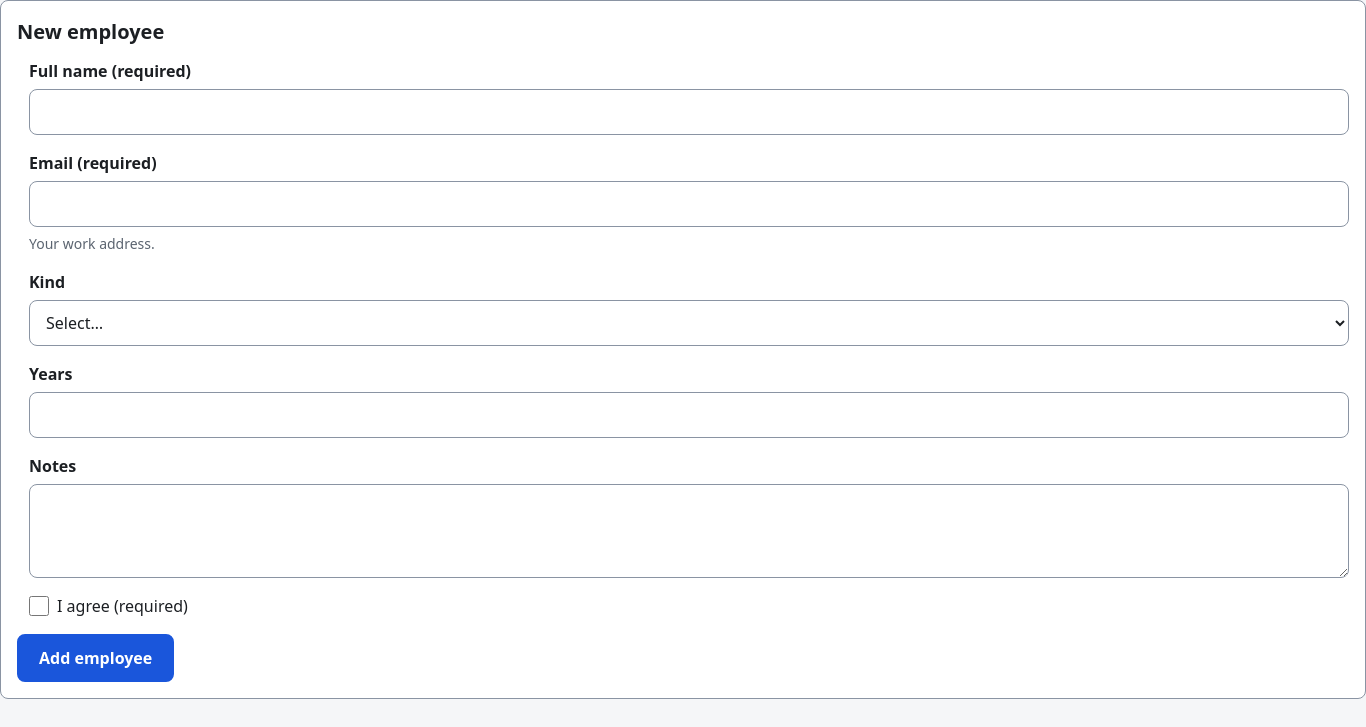
Test: Form: fields that depend on another field › hides the field again when the other field changes back
Select "Contractor" in the dropdown labelled "Kind" at [689, 323], box [29, 300, 1349, 346]
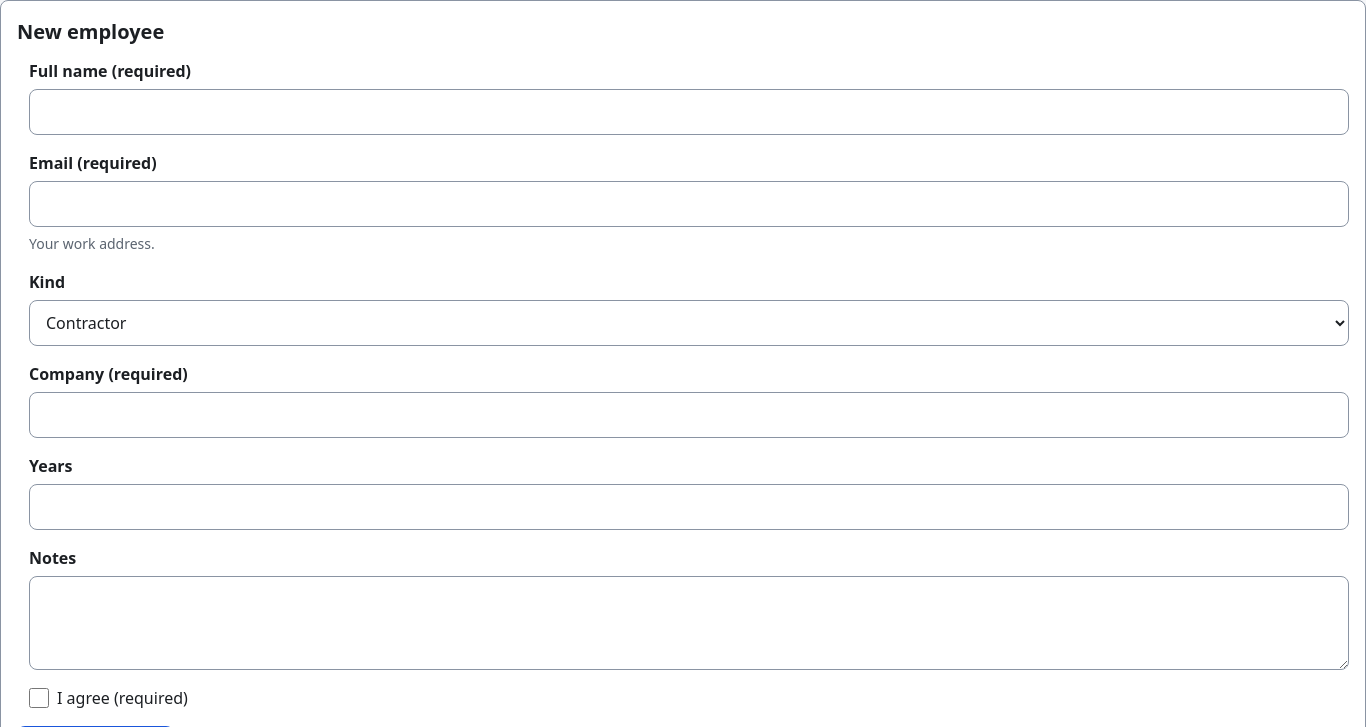
Select "Full-time" in the dropdown labelled "Kind" at [689, 323], box [29, 300, 1349, 346]
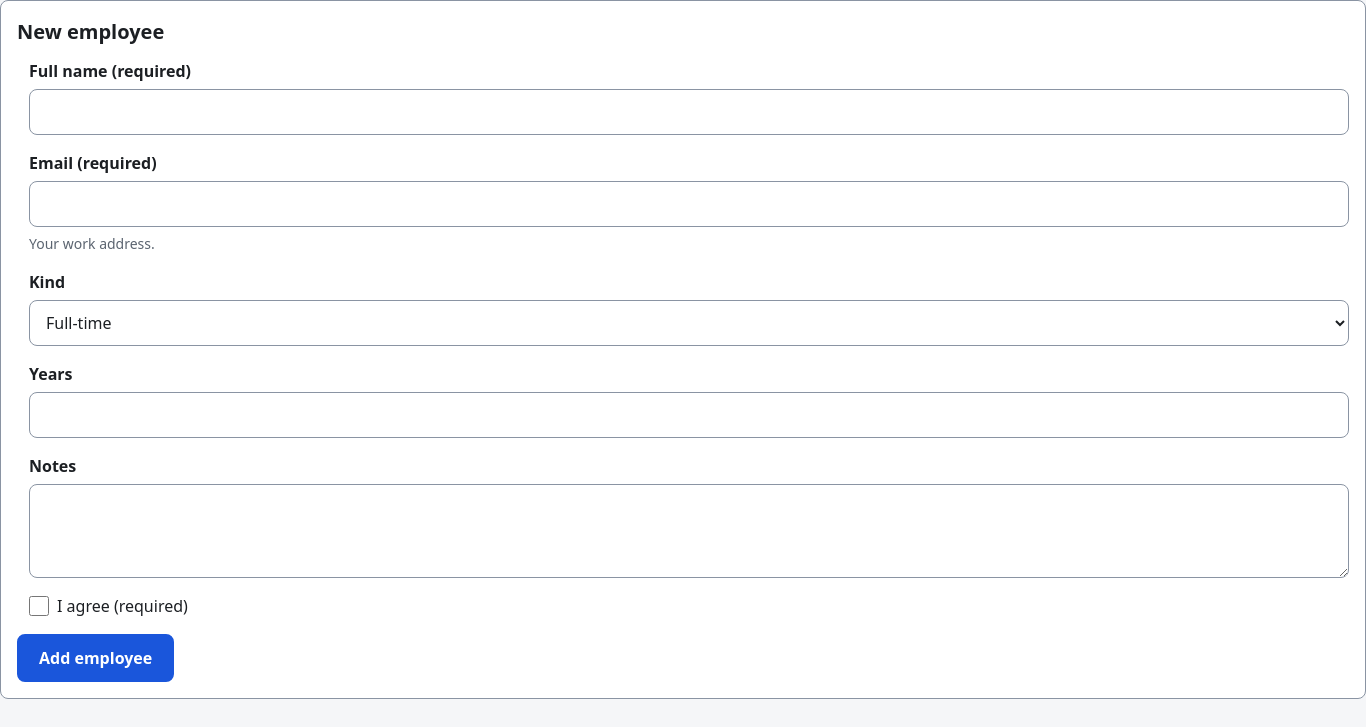
Expected: the label labelled "Company" is gone
